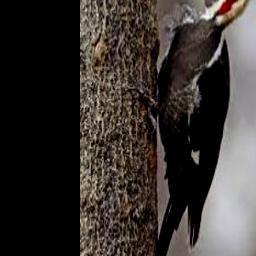Woodpecker: (128, 0, 256, 256)
